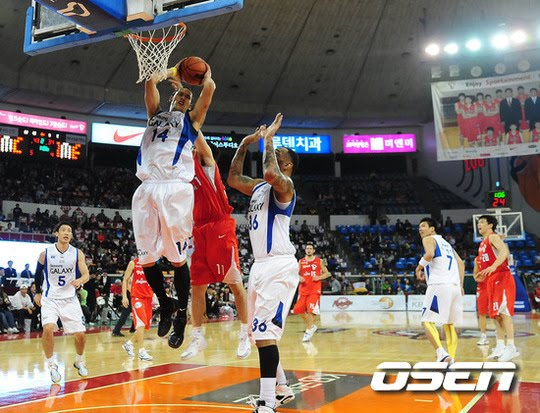basket: (117, 15, 192, 84)
rebound: (128, 51, 214, 352)
run: (26, 219, 98, 391)
stand: (221, 98, 317, 413)
